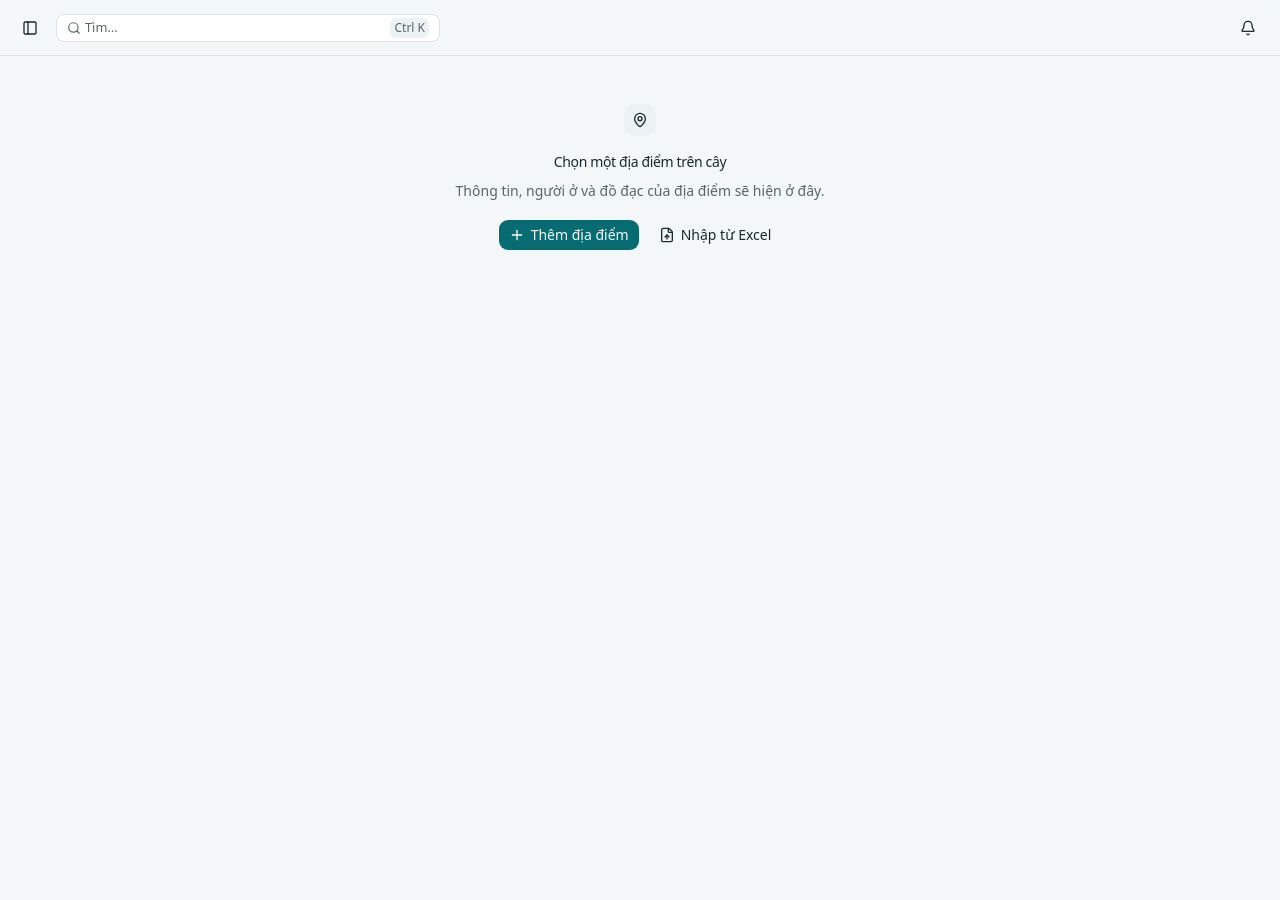
Scenario: emptyPopover
Click the button named "Thông báo".
click(1248, 28)  # box top-left (1232, 12), bottom-right (1264, 44)
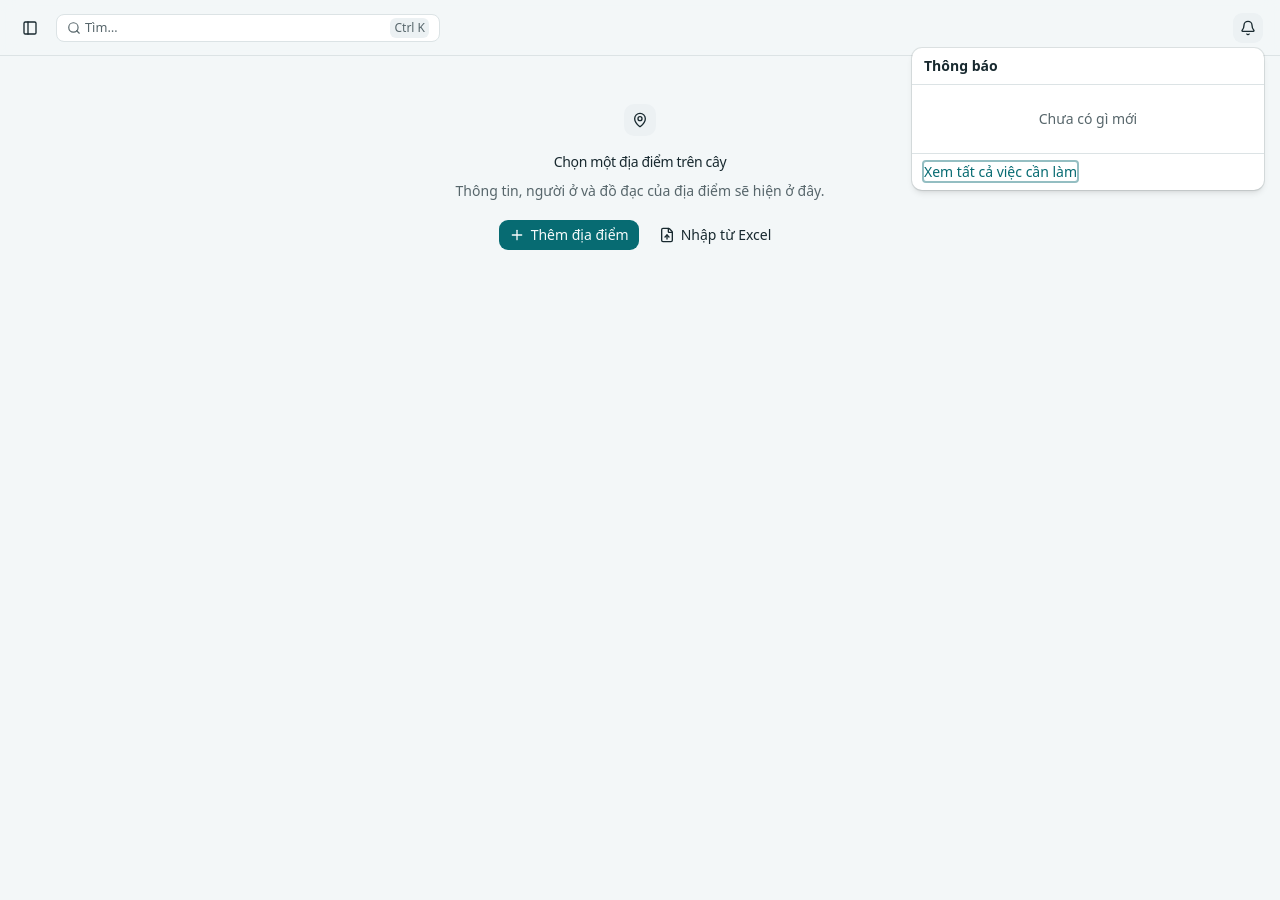
Expected: the text "Chưa có gì mới" is shown, top-left (1039, 109), bottom-right (1137, 128)
